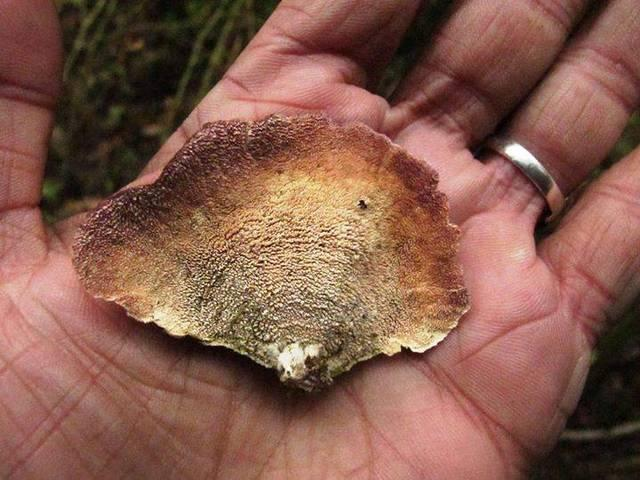poisonous_mushroom: (69, 112, 472, 394)
